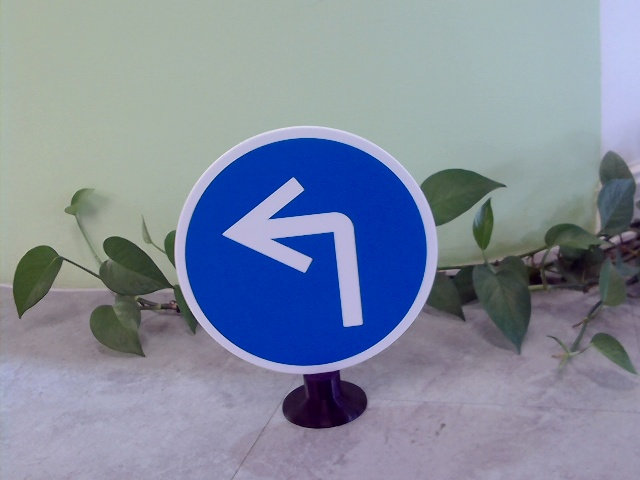turn_left: (226, 173, 375, 327)
